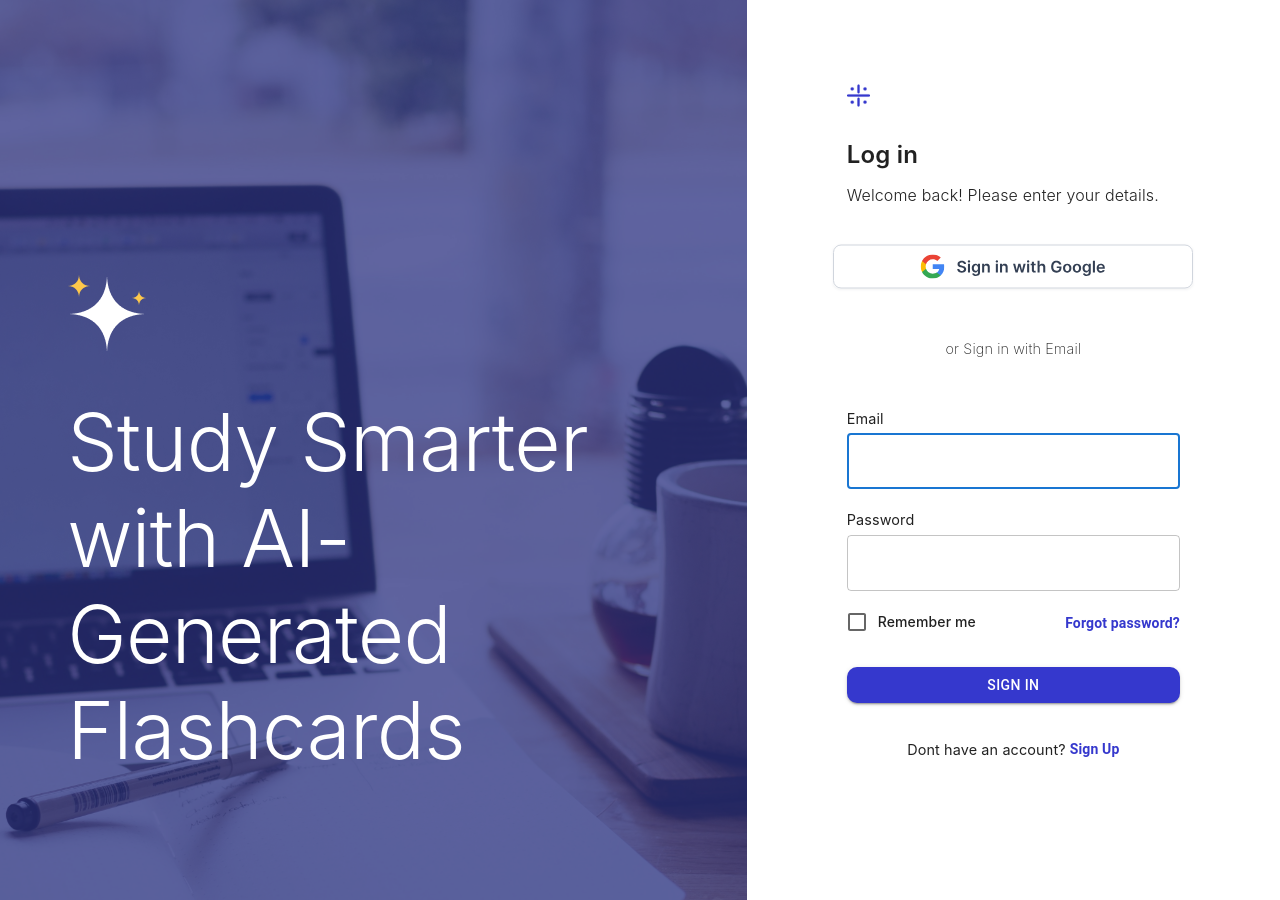
SignInSide › handles form submission with invalid credentials
In the field with test id "email": (1013, 461) [847, 433, 1180, 489], type "test@example.com"
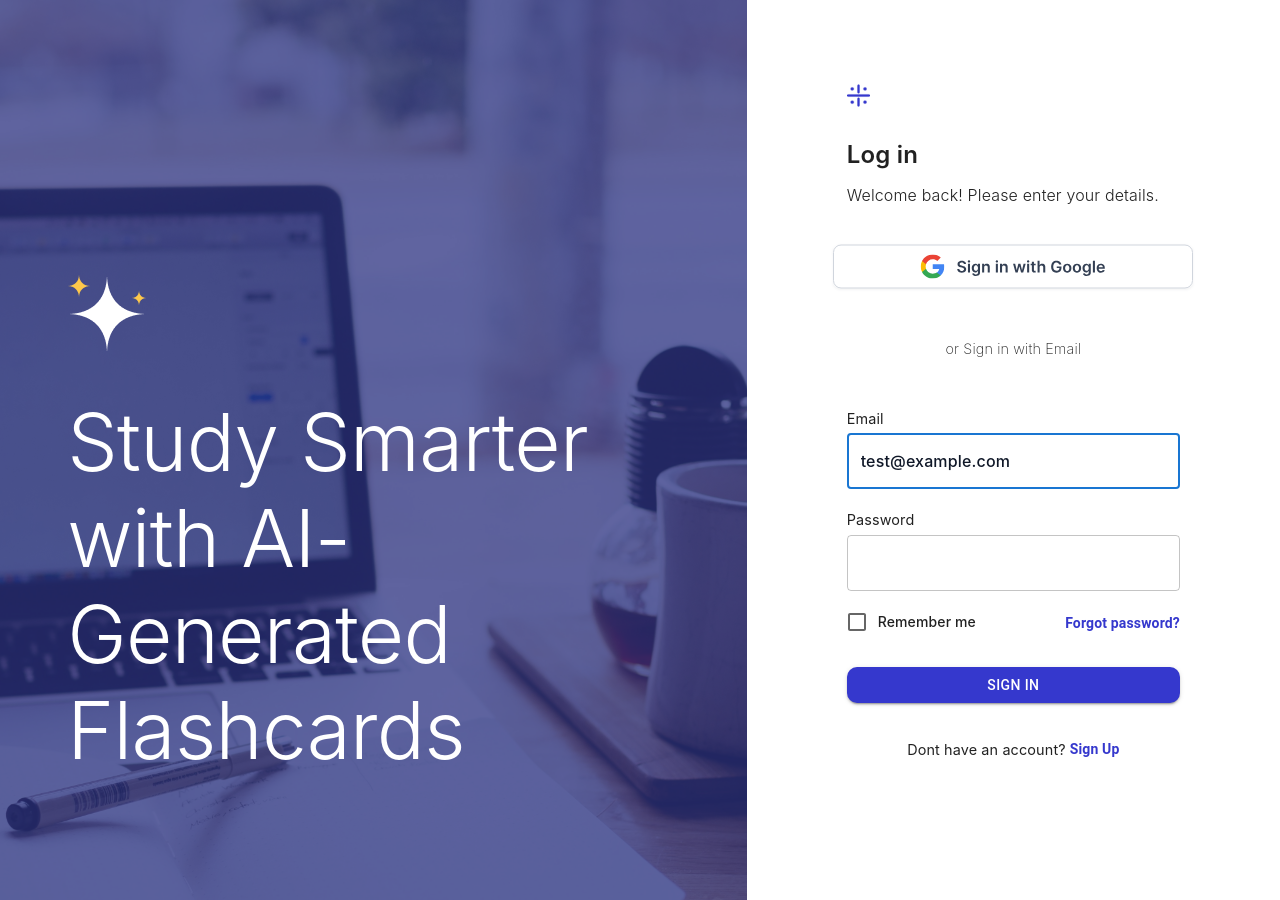
In the password field with test id "password": (1013, 563) [847, 535, 1180, 591], type "password"
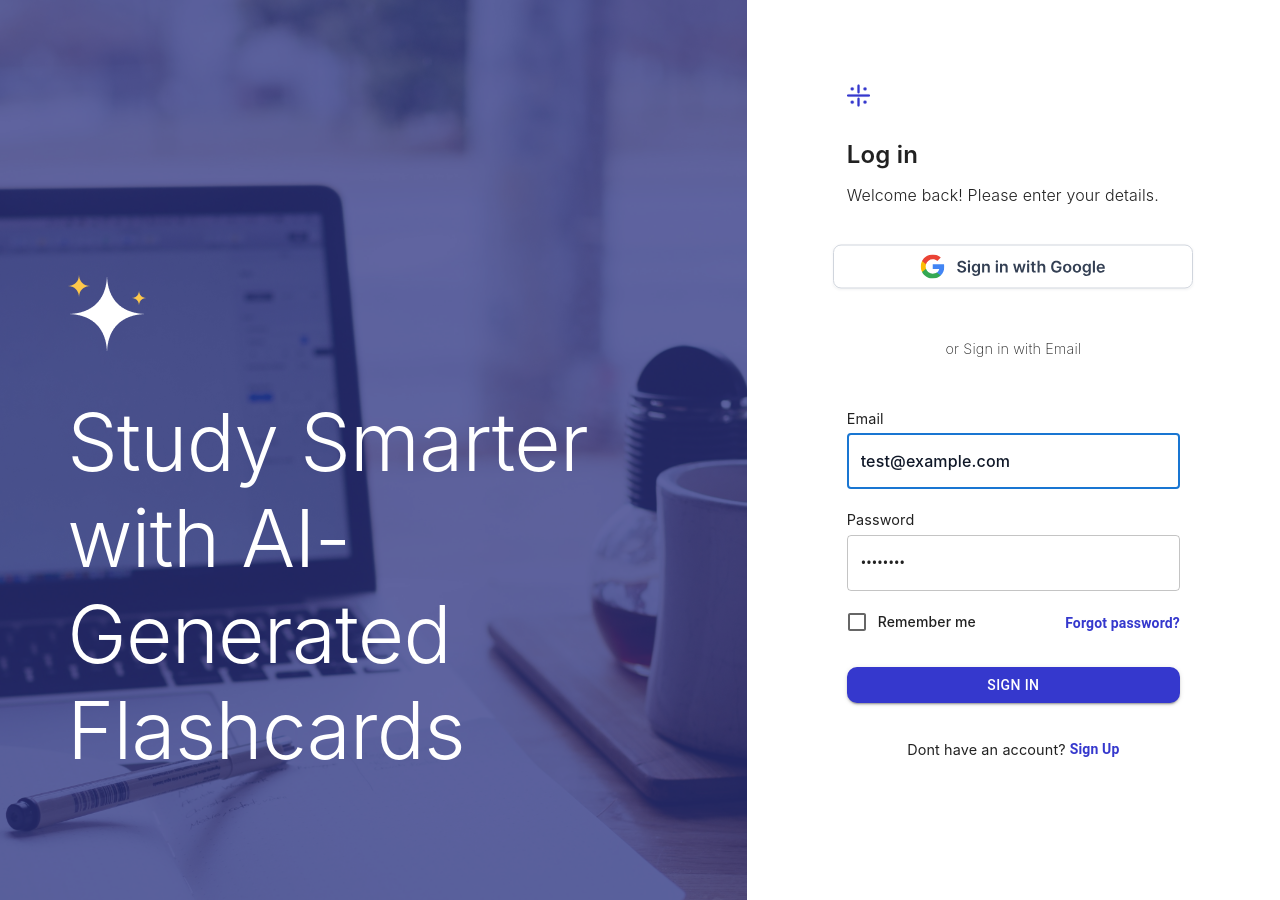
Click the button "Sign In": click(1013, 685) [847, 667, 1180, 703]
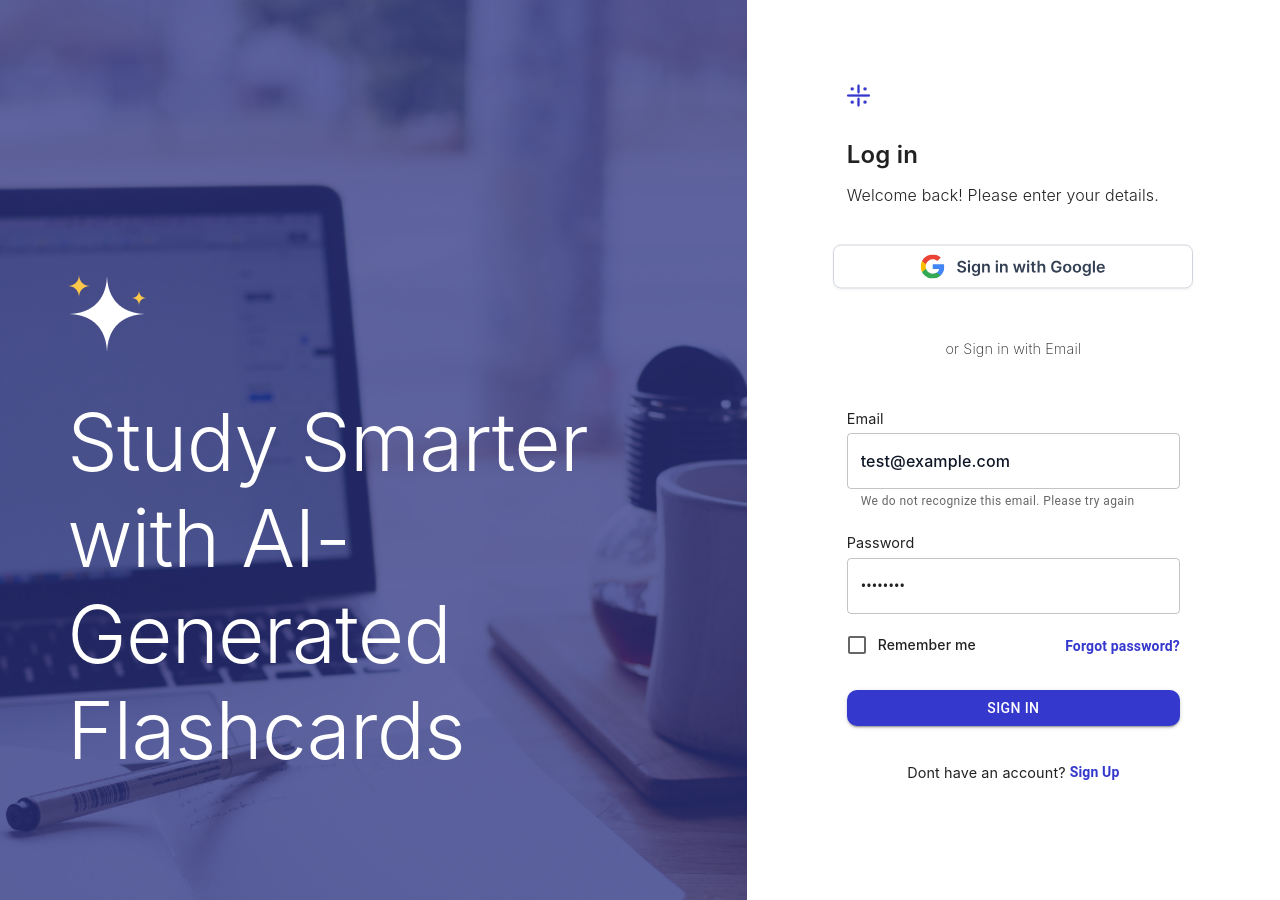
Now the text "We do not recognize this email. Please try again" is shown, box [861, 492, 1166, 512]
